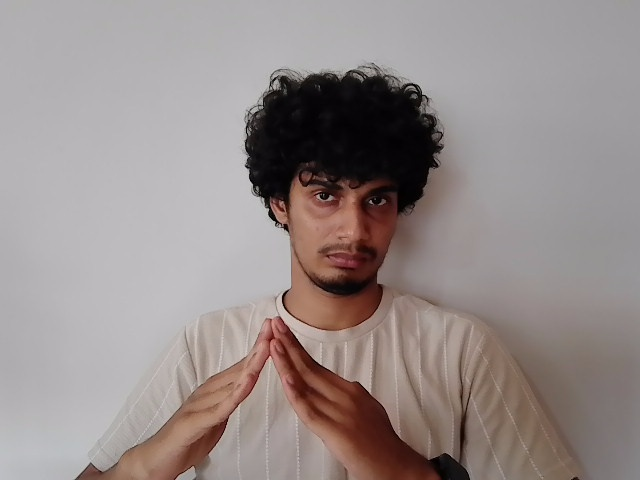home: (139, 319, 432, 477)
